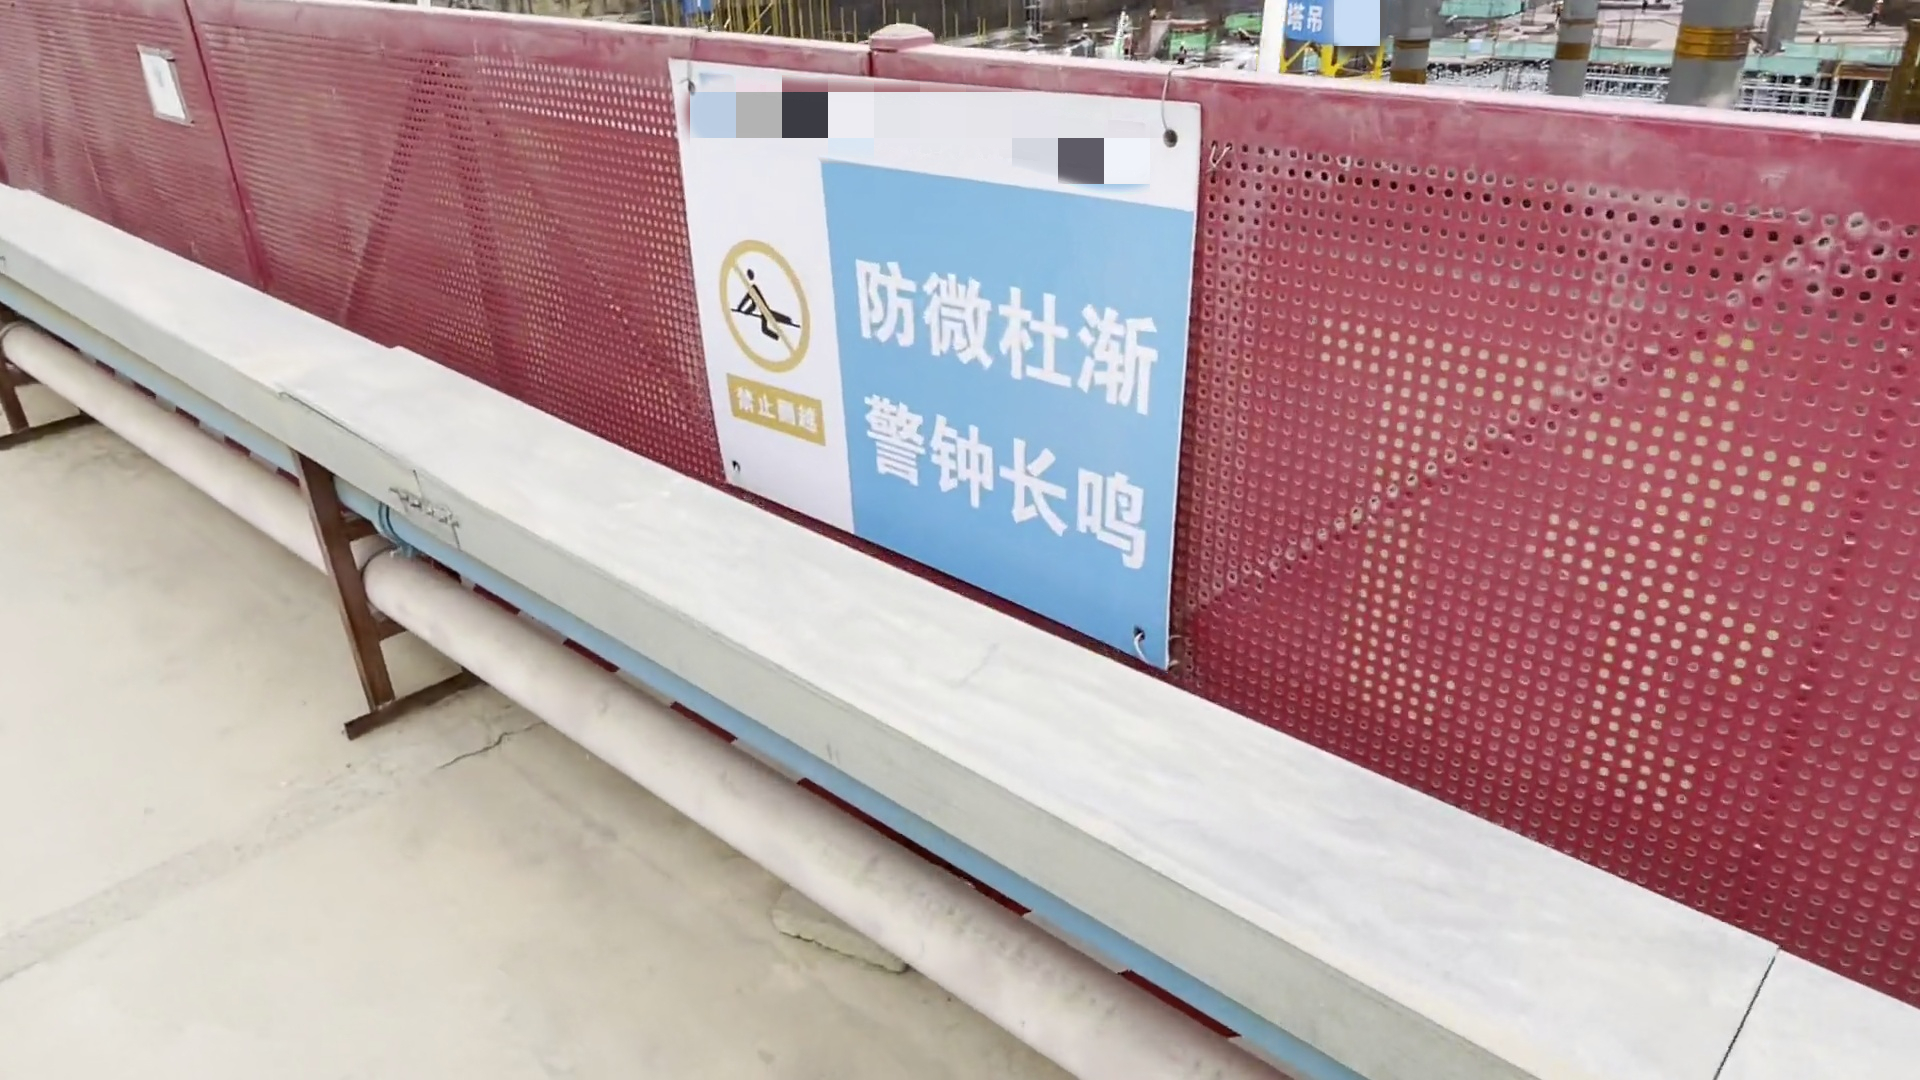slogan: (655, 41, 1226, 679)
